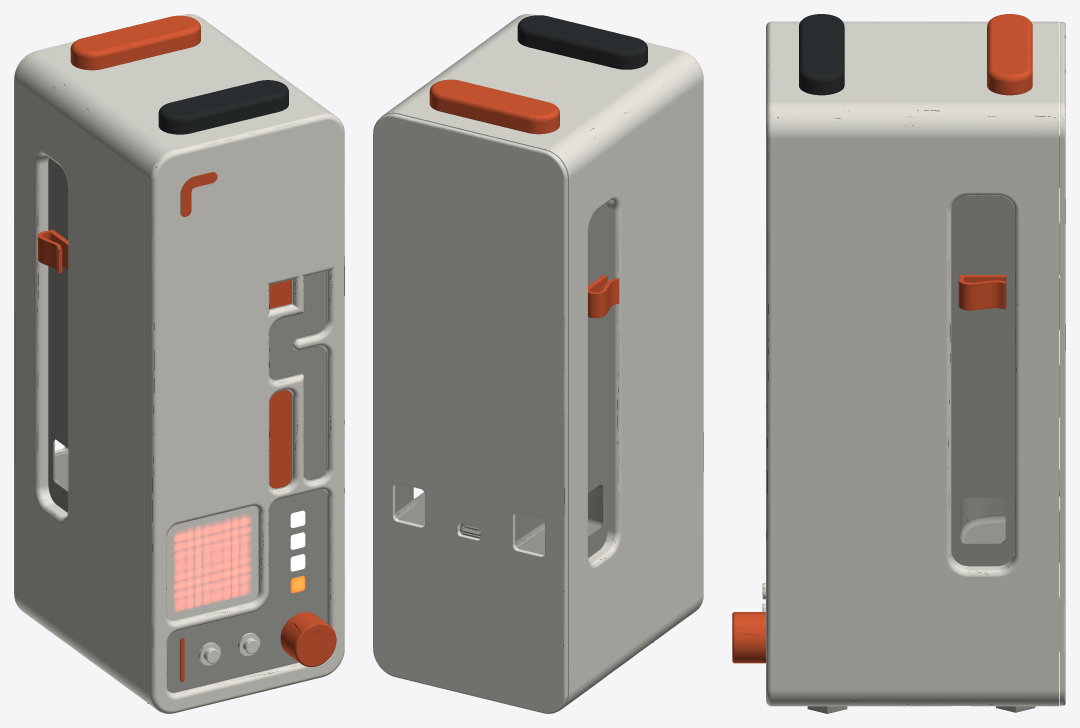
The model's file is headphone-stand-pbr.glb.
The picture shows the model from 3 angles, left to right: view 1: azimuth 30°, elevation 25°; view 2: azimuth 150°, elevation 25°; view 3: azimuth 270°, elevation 25°; orthographic projection. The views are drawn at different scales.
Parts seen in each view (by area): view 1: Headphone Stand / white-orange; view 2: Headphone Stand / white-orange; view 3: Headphone Stand / white-orange.
Boxes of the visible parts, <box> form: Headphone Stand / white-orange: <box>14,14,344,713</box>; Headphone Stand / white-orange: <box>373,14,703,713</box>; Headphone Stand / white-orange: <box>732,14,1065,713</box>.
Size of the model in its own units: 0.0894 by 0.244 by 0.1168.
1 material, 1 textured.
